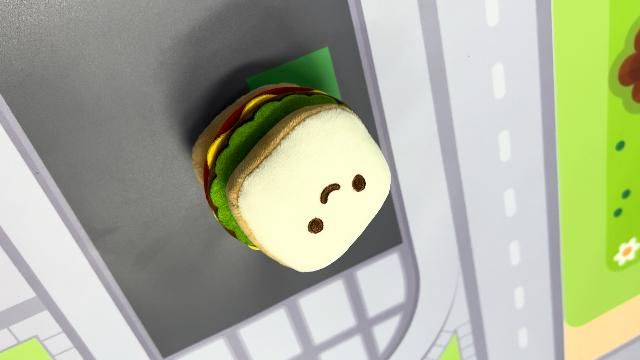sandwich: (189, 80, 395, 274)
